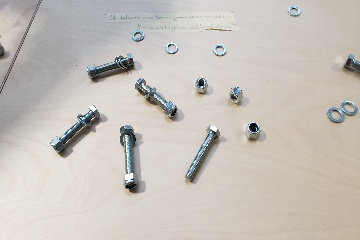Bolt: (181, 125, 222, 184)
FalseAssembly: (46, 101, 104, 156), (117, 125, 145, 191)
FinishedAssembly: (133, 78, 180, 119), (84, 50, 135, 82)
Nut: (242, 120, 263, 141), (228, 87, 245, 105), (194, 76, 210, 95)
Washer: (324, 106, 346, 125), (340, 99, 358, 116), (130, 28, 147, 43), (212, 43, 228, 57), (163, 42, 181, 54), (287, 5, 303, 17)
